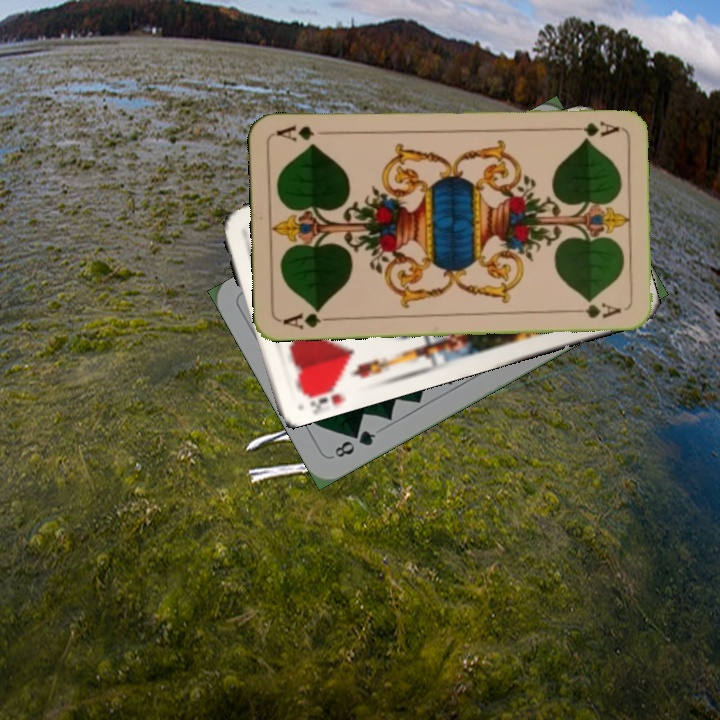G8: (330, 426, 379, 461)
GA: (279, 304, 337, 332), (563, 117, 622, 137)
HK: (297, 376, 347, 413)
